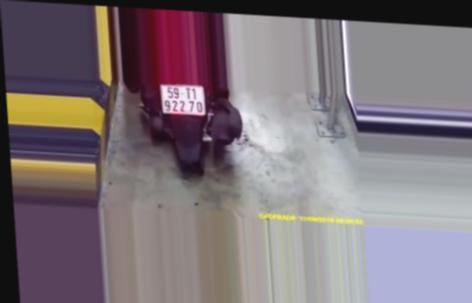License_Plate: (155, 81, 211, 118)
